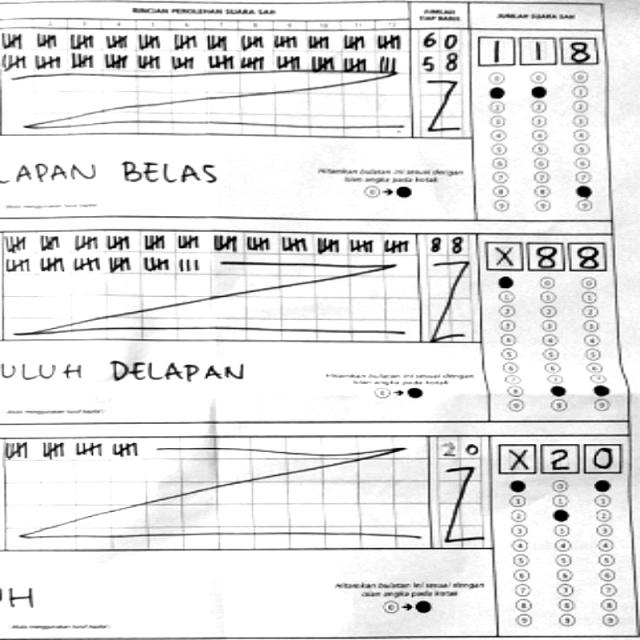Suara: (482, 234, 608, 276), (498, 436, 630, 475), (477, 35, 599, 64)
